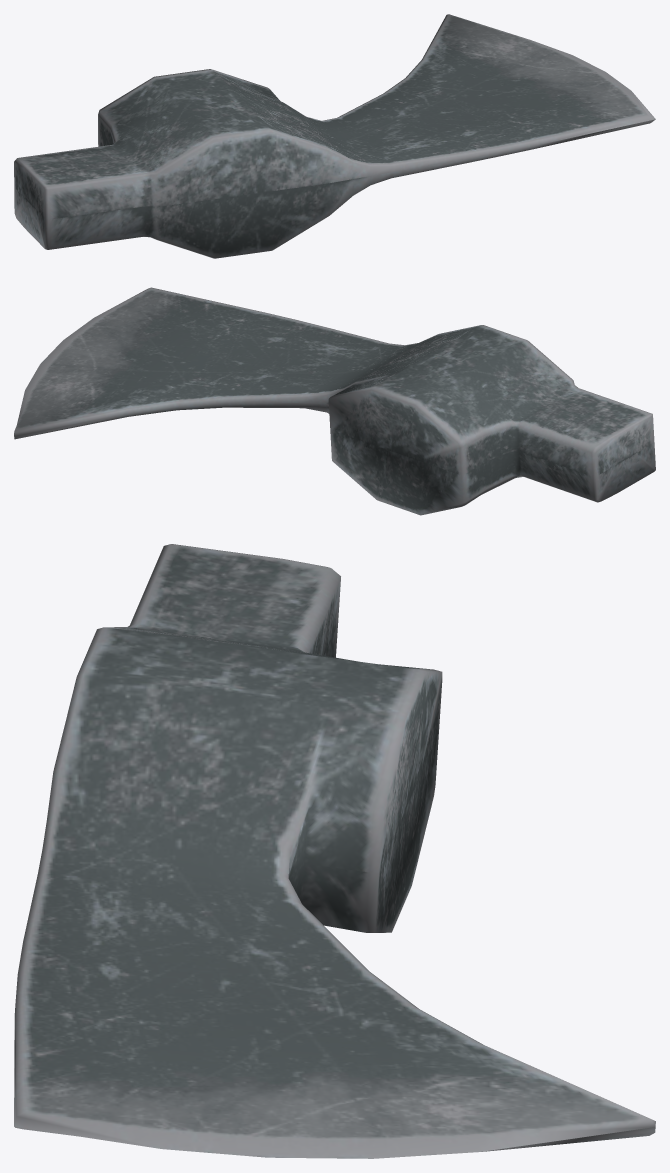
The model's file is Axe head.fbx.
The picture shows the model from 3 angles, top to bottom: view 1: azimuth 30°, elevation 25°; view 2: azimuth 150°, elevation 25°; view 3: azimuth 270°, elevation 25°; orthographic projection. The views are drawn at different scales.
Visible parts, largest first — view 1: defaultMaterial; view 2: defaultMaterial; view 3: defaultMaterial.
Part boxes in pixels (x1,y1,x2,y2): defaultMaterial: (14, 14, 655, 258); defaultMaterial: (14, 287, 655, 515); defaultMaterial: (14, 544, 655, 1158).
Bounding box in the file's own units: 8171 × 1704 × 4184.
1 material, 1 textured.
